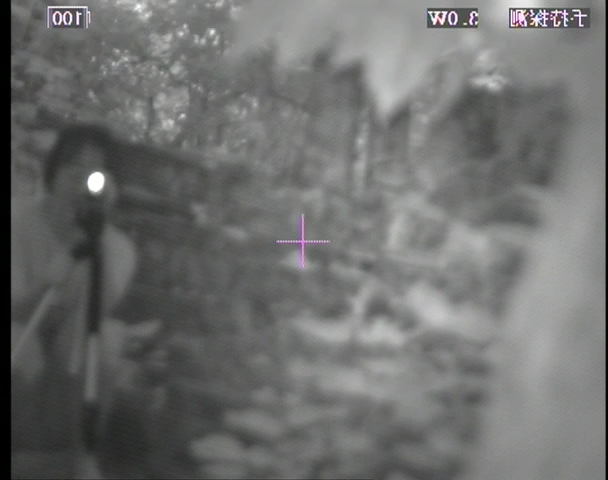my: (86, 171, 107, 195)
